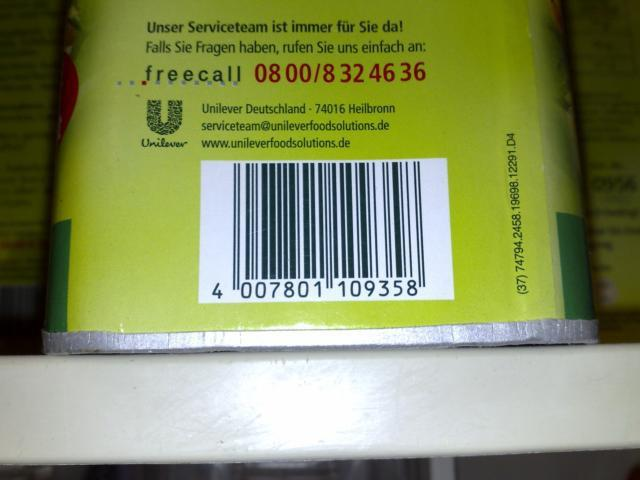Barcode: (203, 158, 434, 305)
